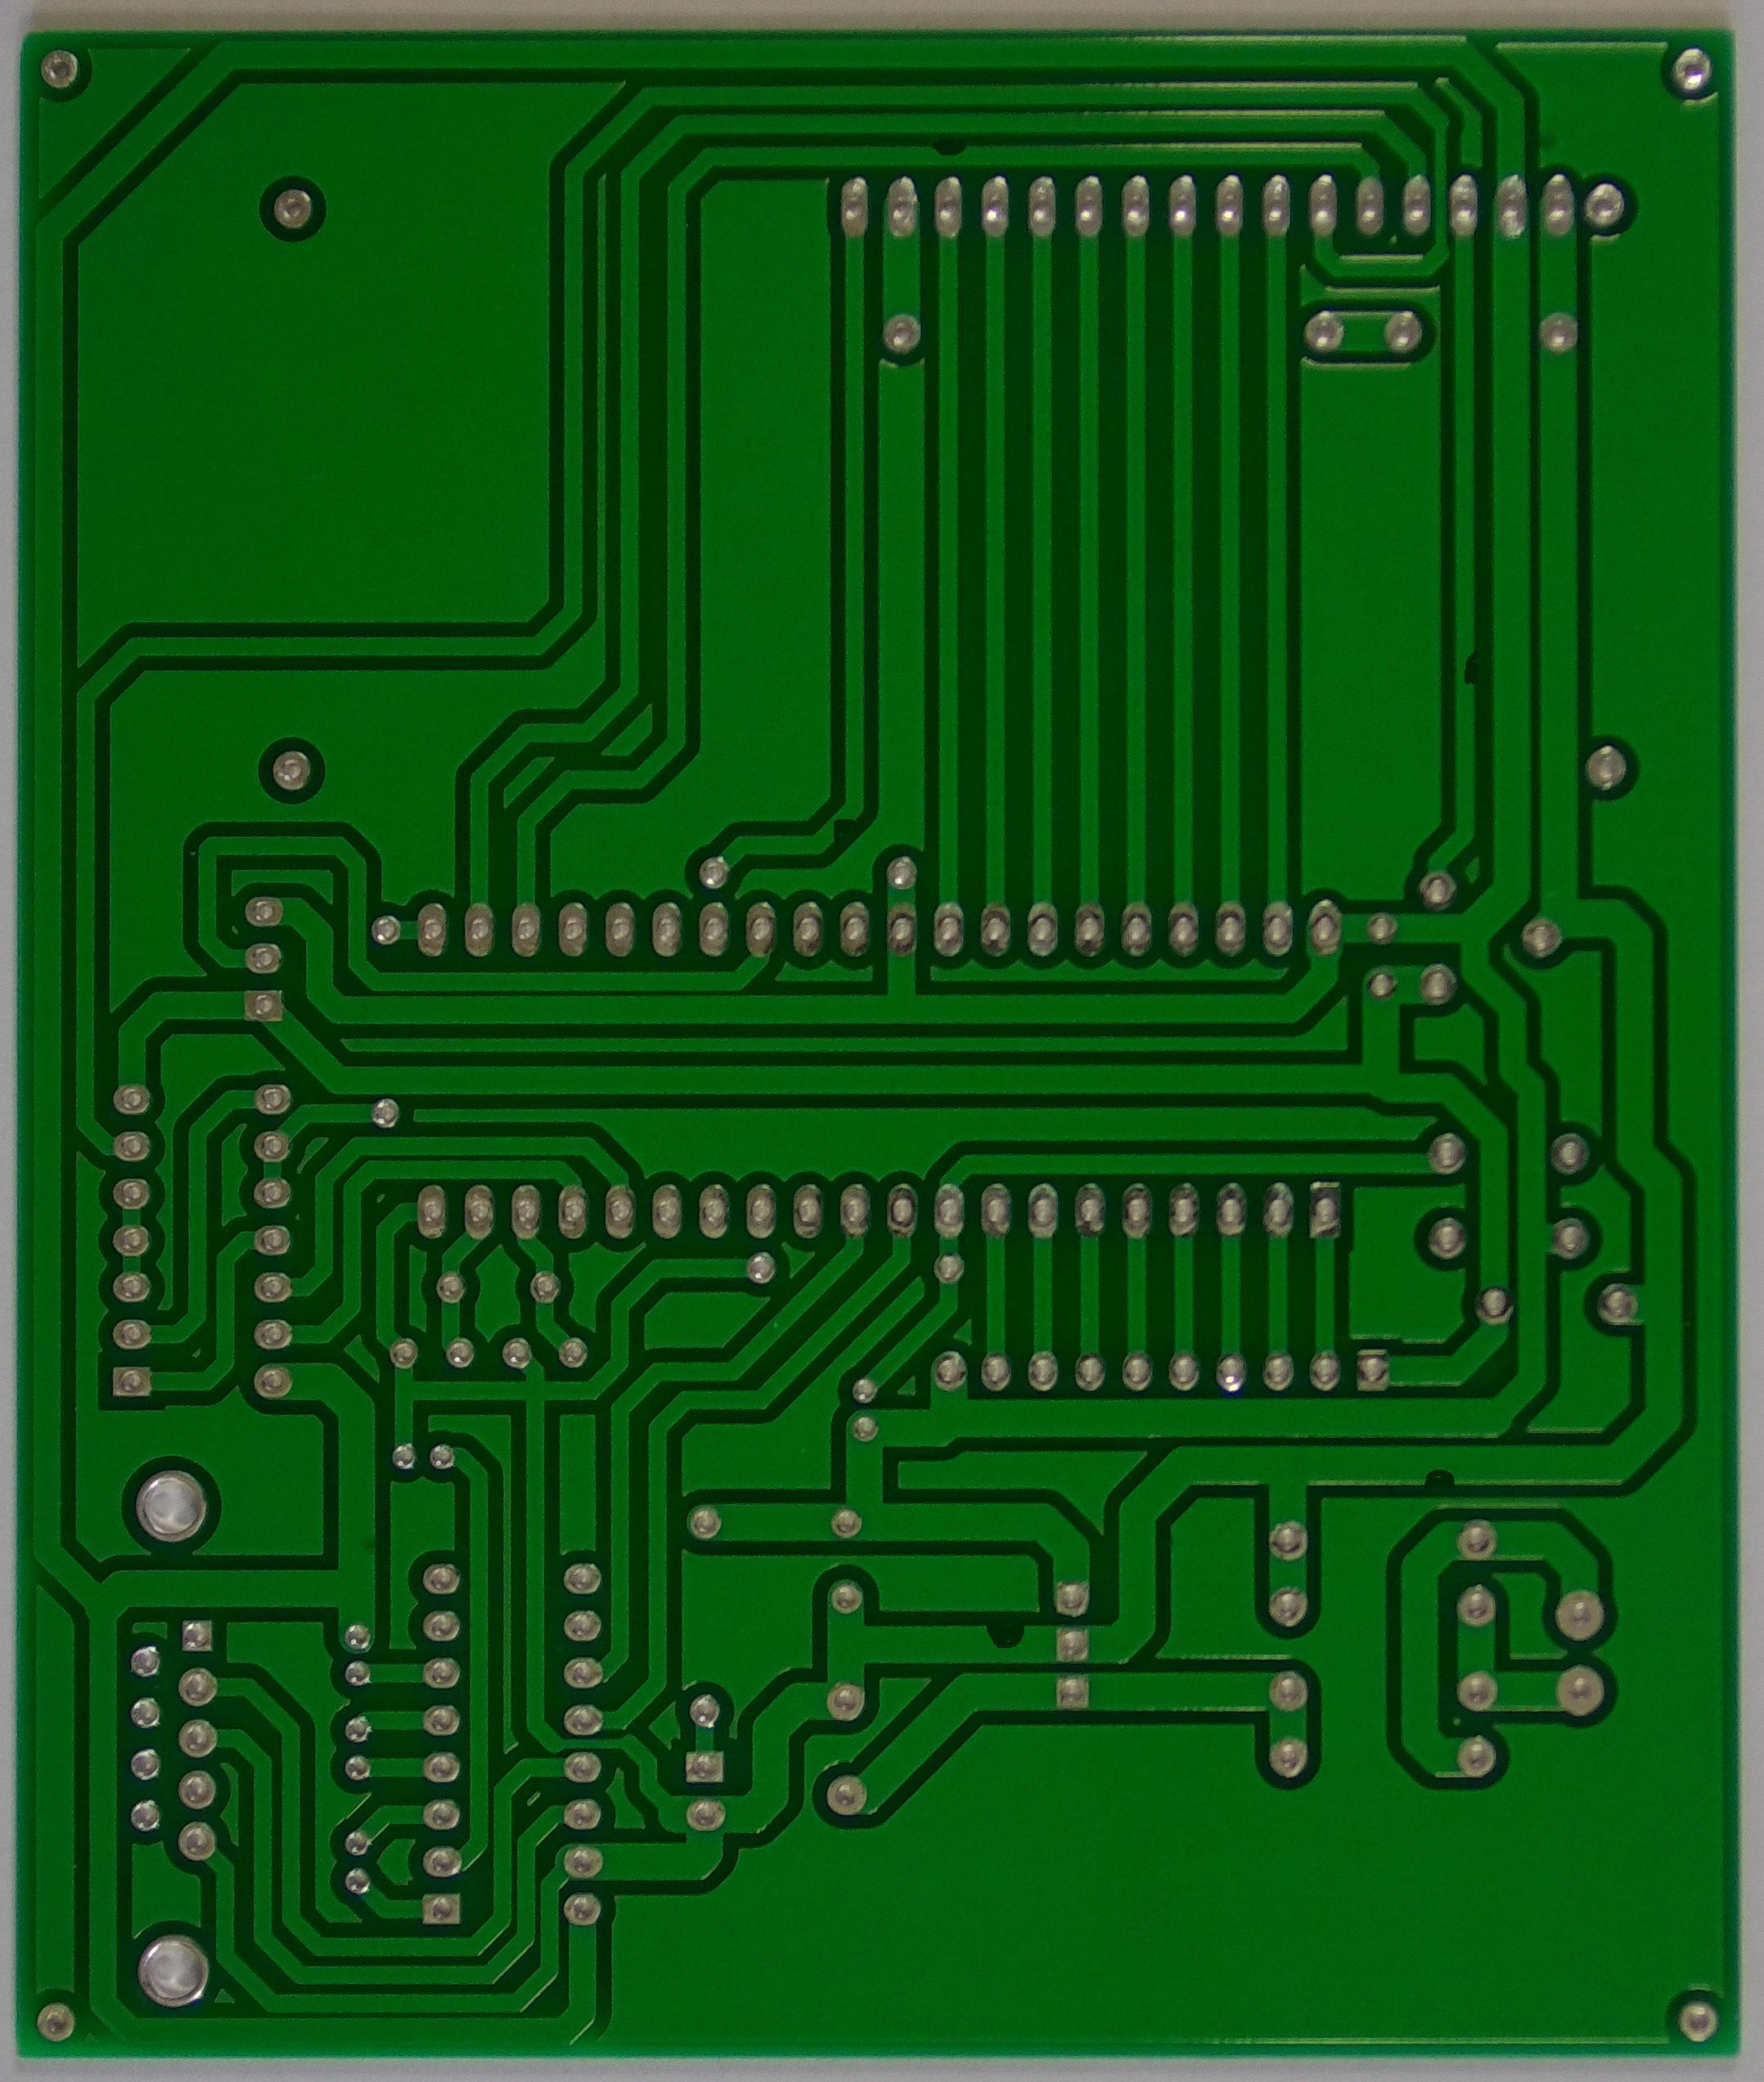mouse_bite: (959, 1595, 1039, 1660), (1390, 1446, 1477, 1502), (1447, 629, 1500, 709), (819, 790, 873, 862), (912, 112, 978, 170)
